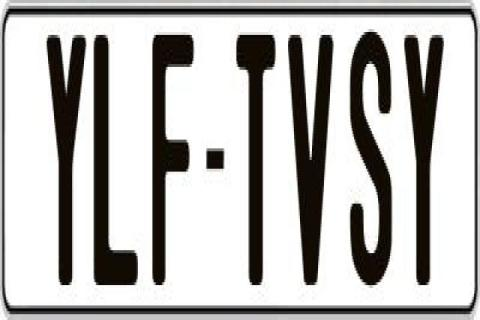F: (150, 32, 192, 296)
L: (90, 32, 136, 291)
S: (350, 32, 394, 296)
T: (233, 32, 279, 294)
V: (286, 35, 334, 299)
Y: (402, 29, 444, 288), (44, 32, 84, 296)
